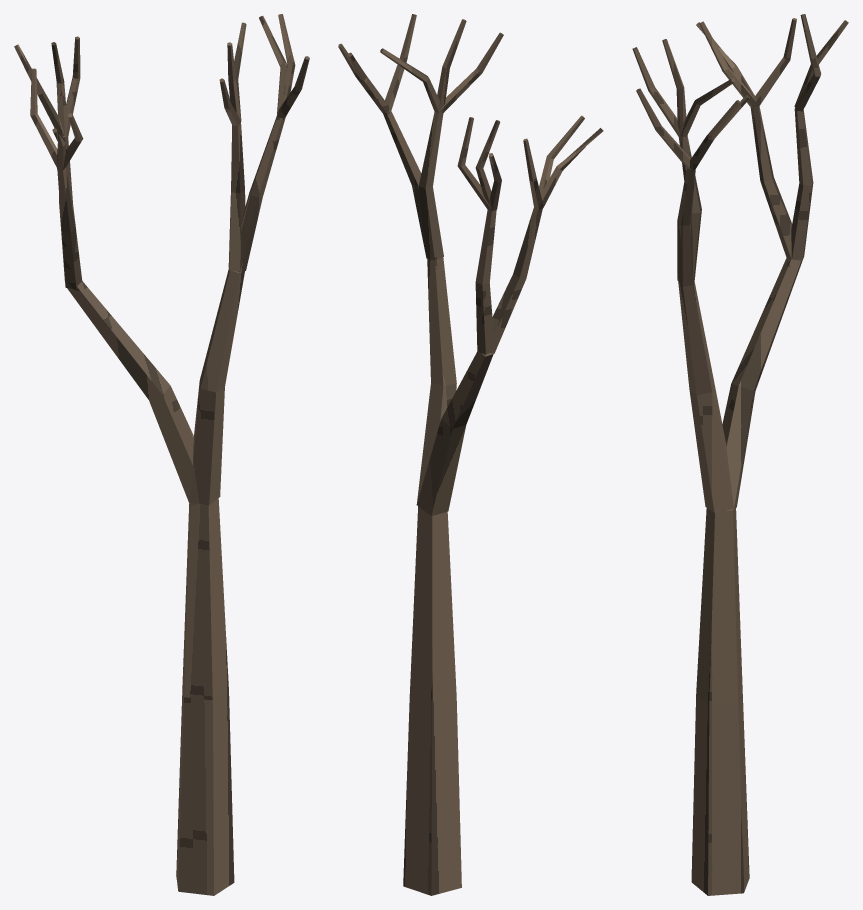
The model's file is dead0.glb.
The picture shows the model from 3 angles, left to right: view 1: azimuth 30°, elevation 25°; view 2: azimuth 150°, elevation 25°; view 3: azimuth 270°, elevation 25°; orthographic projection. The views are drawn at different scales.
Visible parts, largest first — view 1: dead0; view 2: dead0; view 3: dead0.
Part boxes in pixels (x1,y1,x2,y2): dead0: (14, 14, 309, 895); dead0: (338, 14, 603, 895); dead0: (632, 14, 848, 895).
Bounding box in the file's own units: 1.83 × 6.02 × 1.4.
1 material, 1 textured.
